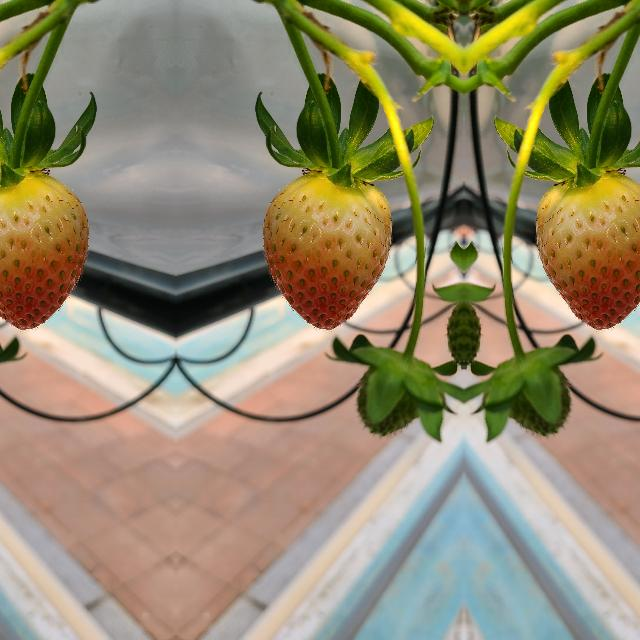Health_75: (260, 174, 392, 332), (534, 173, 640, 332), (0, 173, 90, 332)
